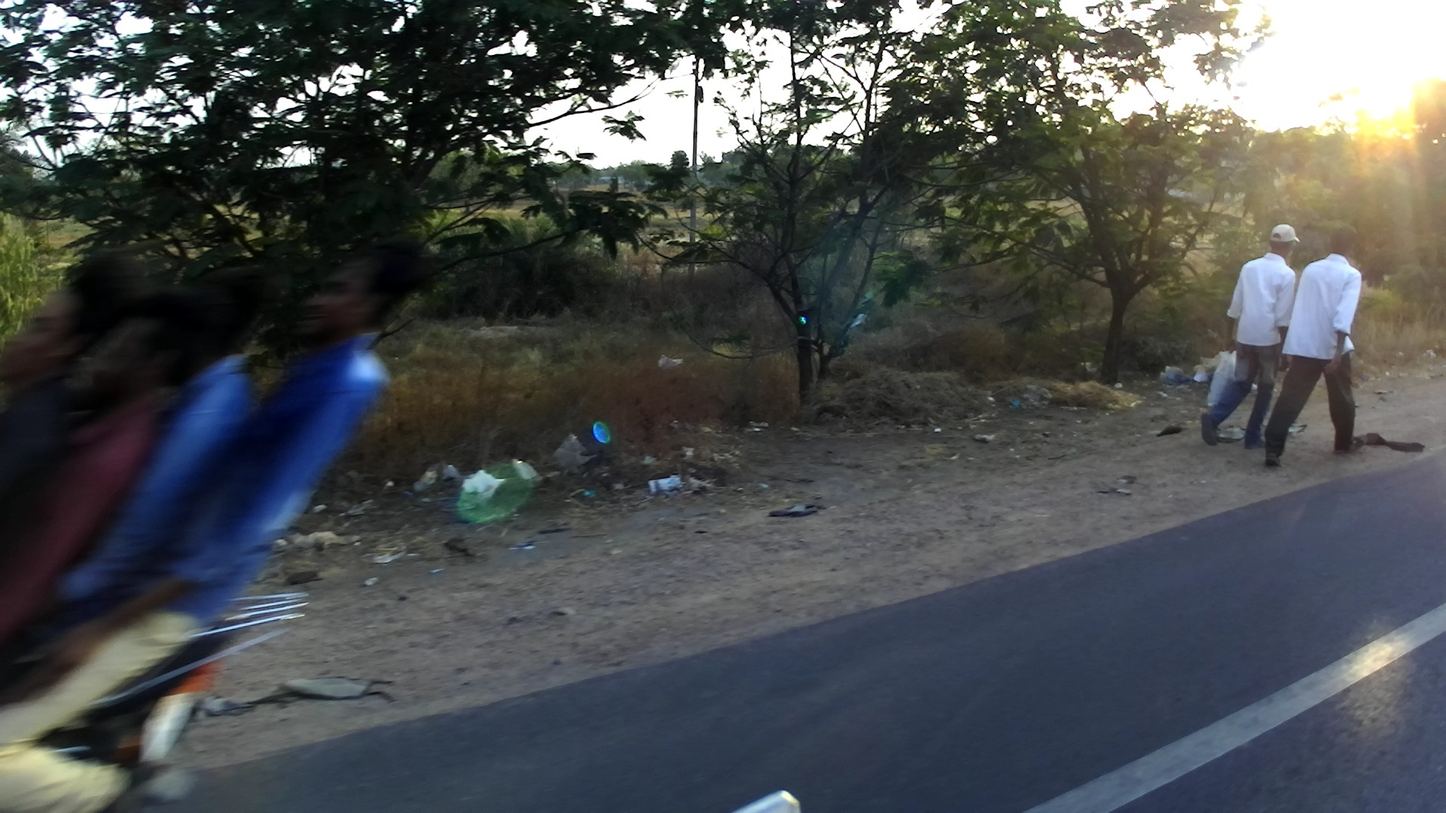motorcycle: (3, 596, 311, 809)
person: (1261, 225, 1365, 463), (1197, 218, 1302, 451)
rider: (1, 240, 429, 813), (1, 256, 276, 741), (1, 280, 239, 659), (1, 241, 139, 598)
